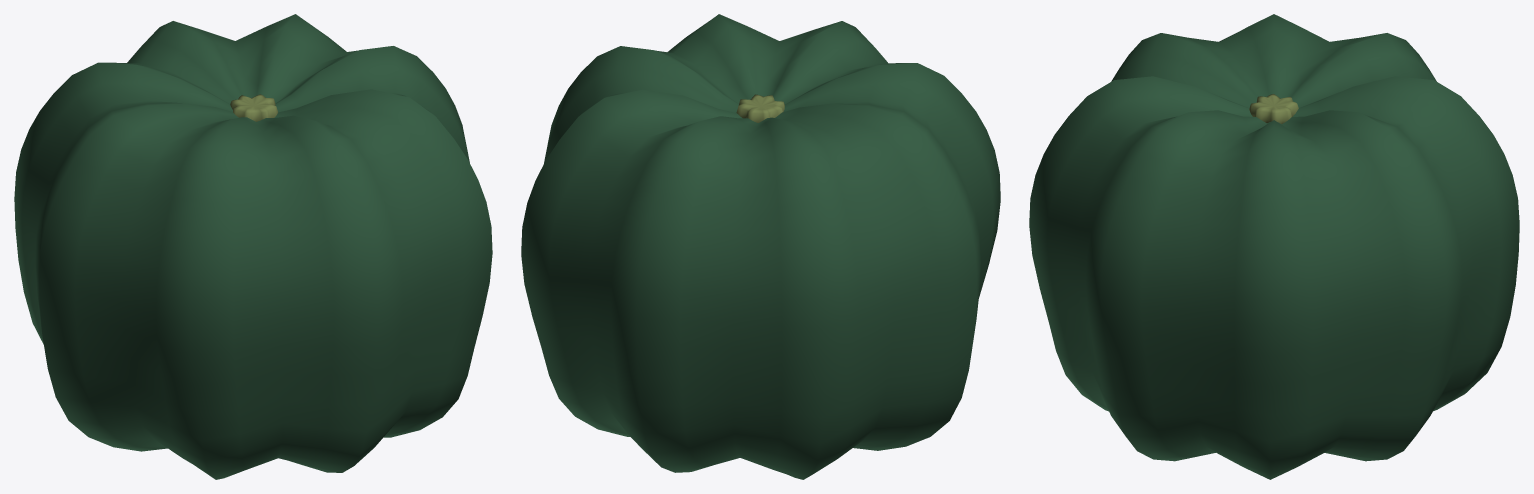
The model's file is kabotya.fbx.
The picture shows the model from 3 angles, left to right: view 1: azimuth 30°, elevation 25°; view 2: azimuth 150°, elevation 25°; view 3: azimuth 270°, elevation 25°; orthographic projection.
Visible parts, largest first — view 1: pCylinder3; view 2: pCylinder3; view 3: pCylinder3.
Part boxes in pixels (x1=…): pCylinder3: x1=14, y1=14, x2=492, y2=479; pCylinder3: x1=521, y1=14, x2=1000, y2=479; pCylinder3: x1=1029, y1=14, x2=1519, y2=479.
Size of the model in its own units: 9.3 by 7.26 by 9.3.
